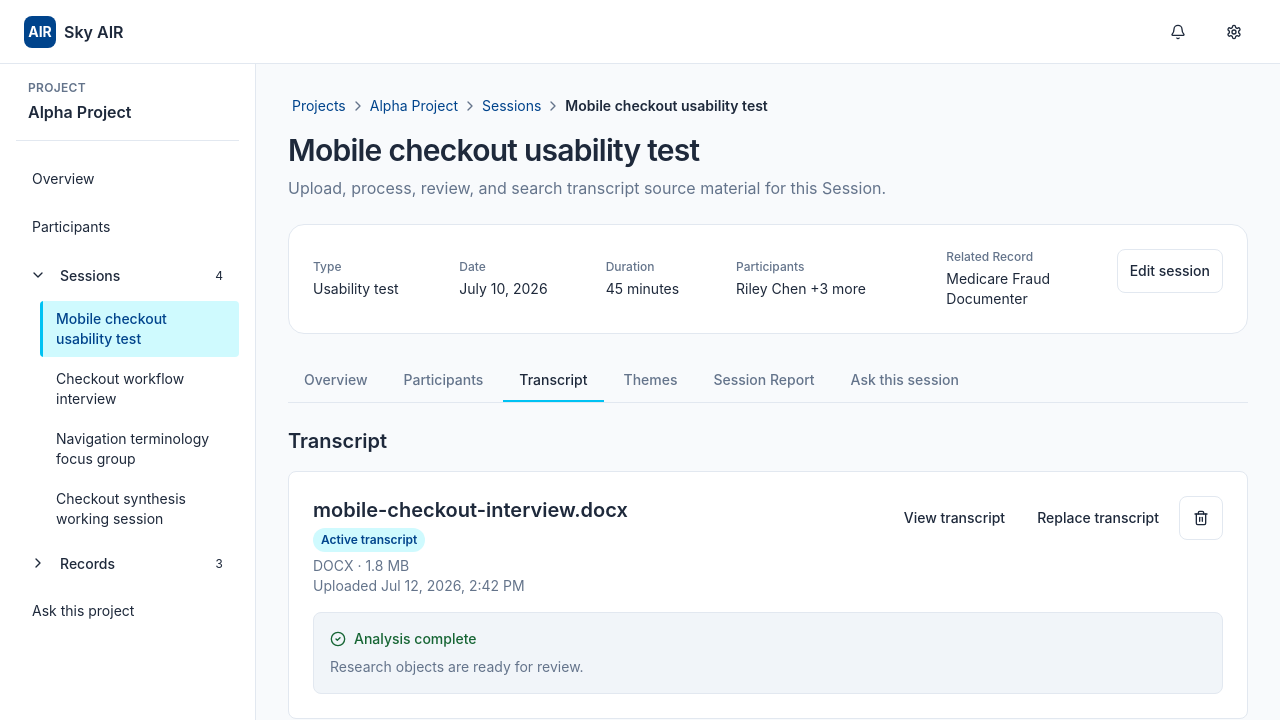
Test case: application router foundation › confirms linked evidence and returns to upload after preserving a deleted Transcript
Click the button named "Delete transcript" at (1201, 518), box [1179,496,1223,540]
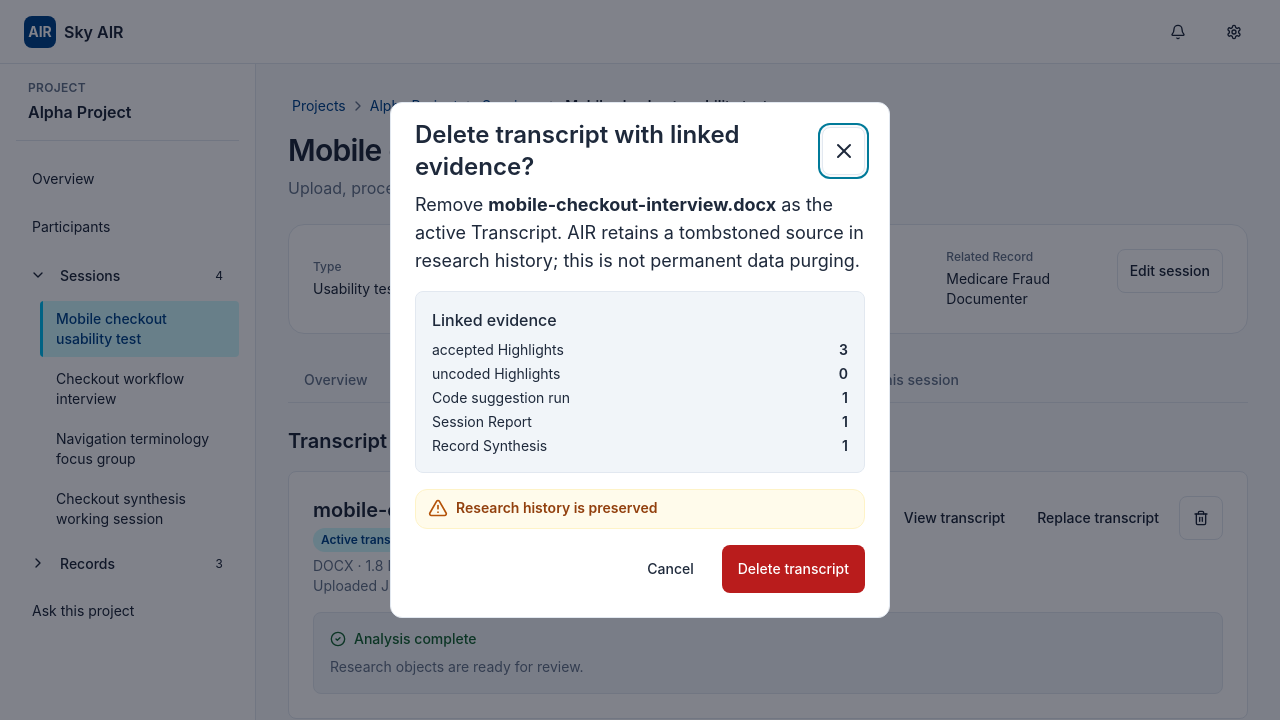
Result: the text "accepted Highlights" is shown at [432,340,564,360]
Result: the text "3" is shown at [839,340,848,360]
Click the button "Delete transcript" at (793, 569), box [722,545,865,593]
(page scrolled)
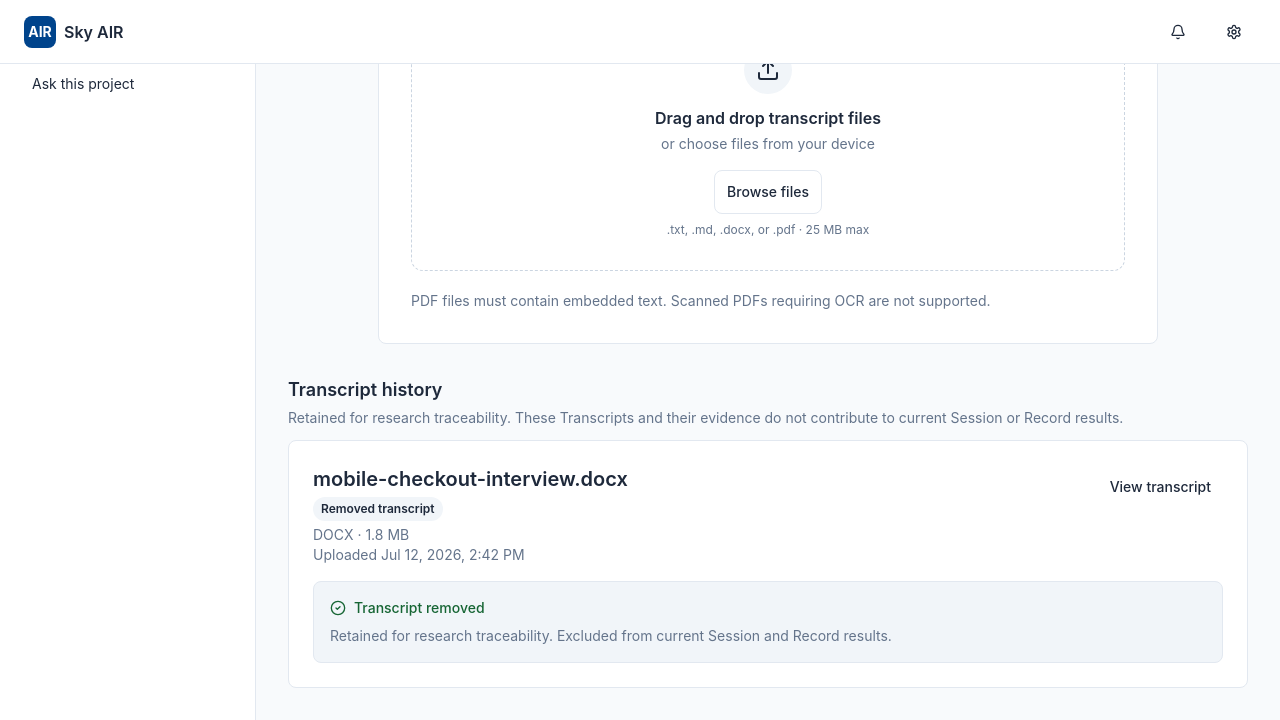
Expected: the link "View transcript" is shown, [1110,478,1211,495]
Result: the heading "Transcript history" is shown at [288,379,442,400]
Result: the text "Removed transcript" is shown at [313,497,442,521]
